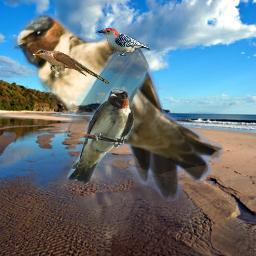Cuckoo: (31, 49, 109, 84)
Swallow: (11, 13, 224, 201), (66, 87, 134, 185)
Woodpecker: (96, 28, 150, 57)
